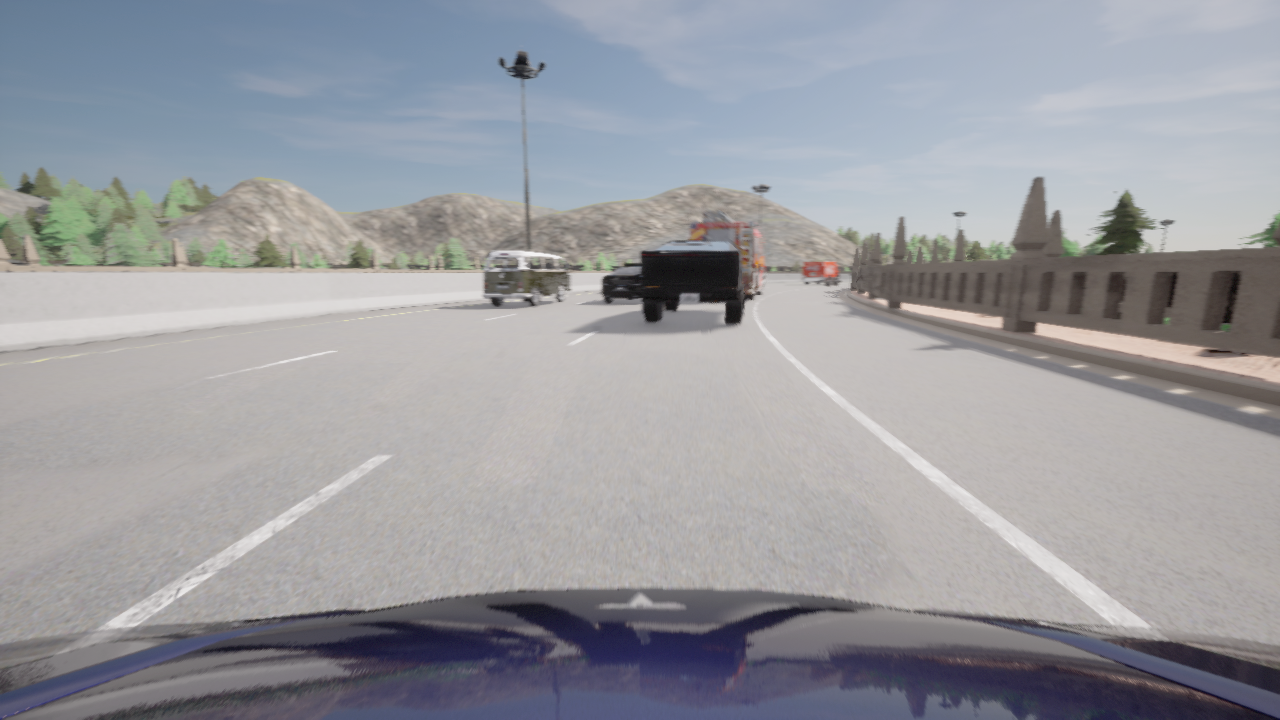cyclist: (0, 588, 1279, 719), (641, 241, 744, 323), (688, 210, 770, 300), (483, 250, 570, 306), (602, 263, 642, 302), (801, 261, 842, 285)
